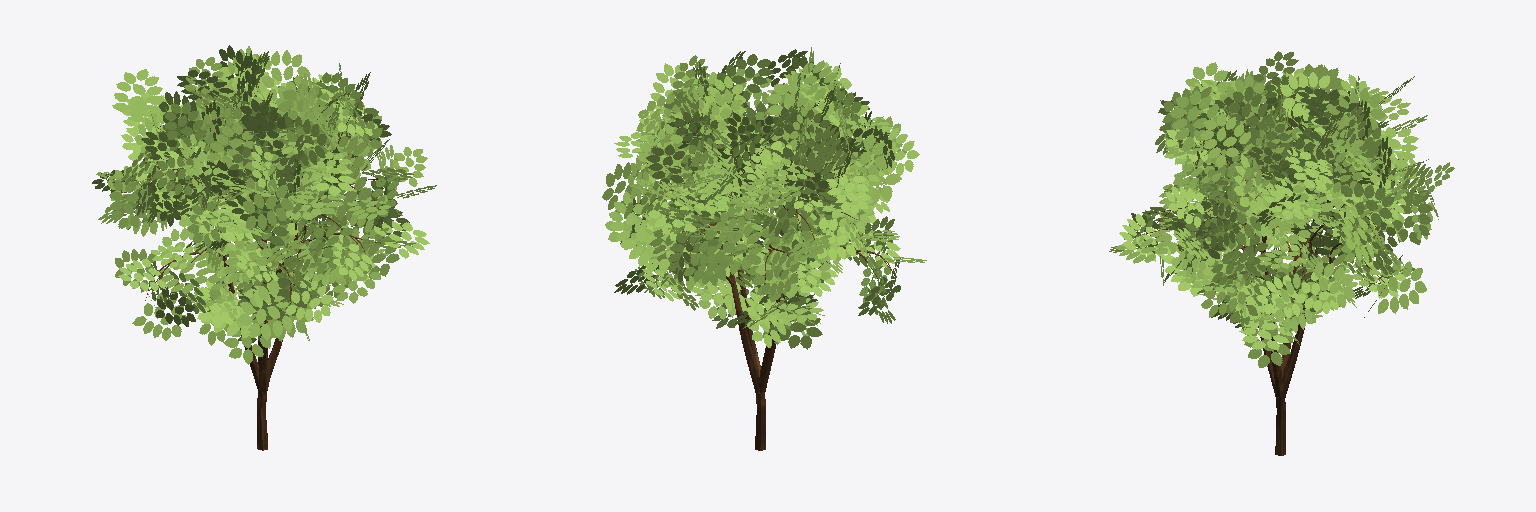
3 views of the same model, side by side, from view 1: azimuth 30°, elevation 25°; view 2: azimuth 150°, elevation 25°; view 3: azimuth 270°, elevation 25° (orthographic).
Parts seen in each view (by area): view 1: leaves, tree; view 2: leaves, tree; view 3: leaves, tree.
Boxes of the visible parts, x1=… form: leaves: x1=92, y1=45, x2=436, y2=364; tree: x1=96, y1=82, x2=383, y2=450; leaves: x1=602, y1=47, x2=926, y2=349; tree: x1=633, y1=91, x2=895, y2=450; leaves: x1=1109, y1=51, x2=1454, y2=367; tree: x1=1142, y1=89, x2=1432, y2=455.
Bounding box in the file's own units: 5.52 × 6.94 × 5.69.
Materials: 2 (2 with a texture image).